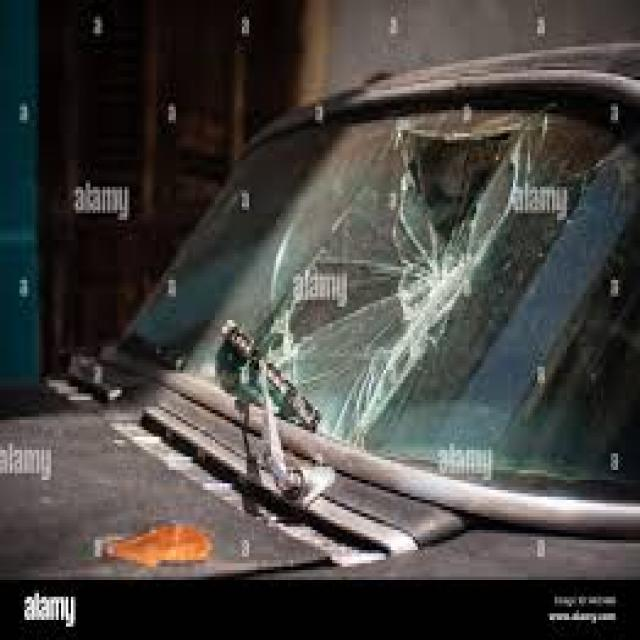damaged-windscreen: (113, 90, 640, 534)
